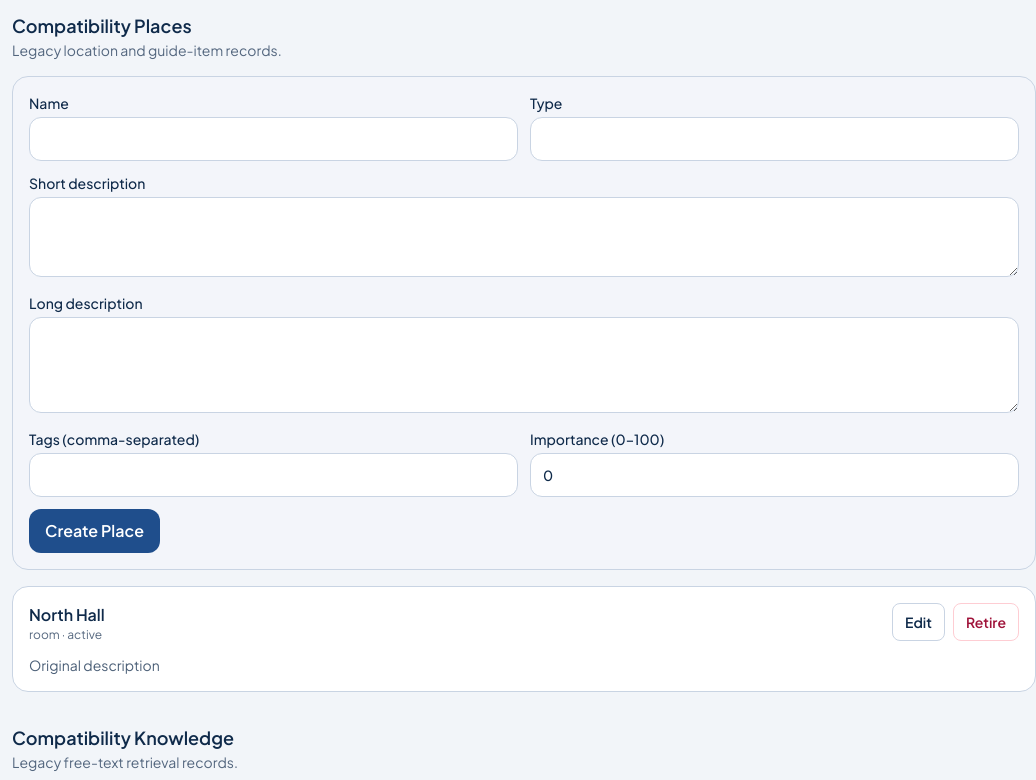
LegacyContentManager › sends exact tenant, venue and CAS scope while retaining edits on conflict
The width and height of the screenshot is (1036, 780).
Click the button with aria-label "Edit Place North Hall" at [918, 622], box top-left (892, 603), bottom-right (945, 641)
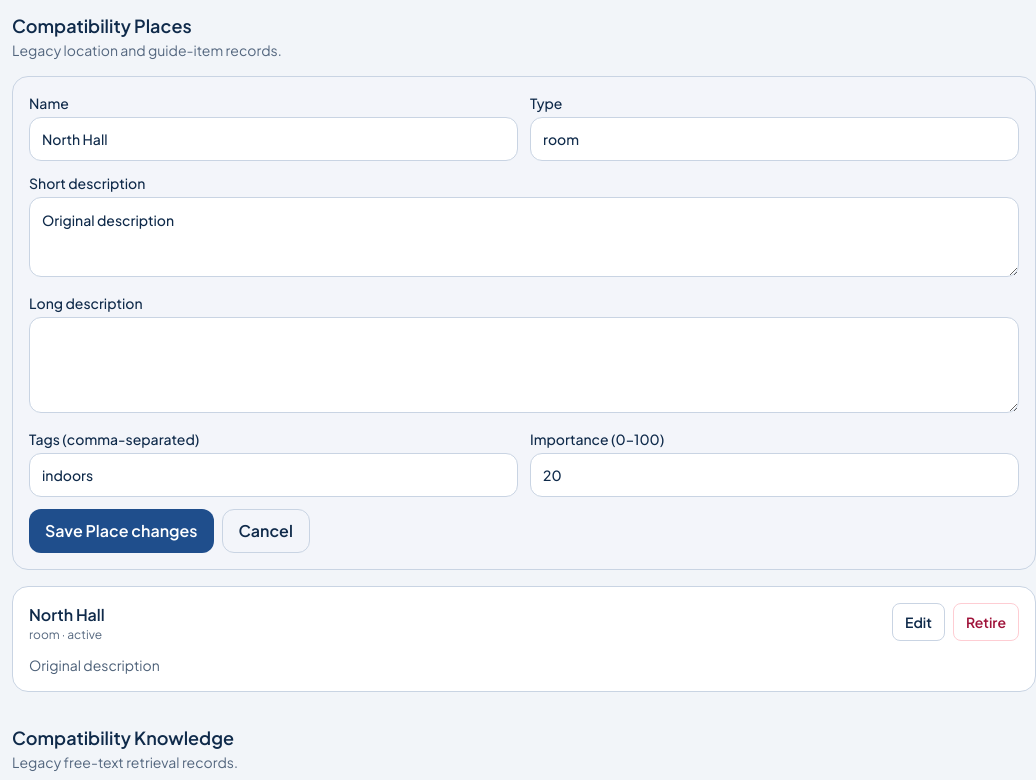
Replace the text in the field labelled "Name" with "North Gallery" at [274, 139], box top-left (29, 117), bottom-right (518, 161)
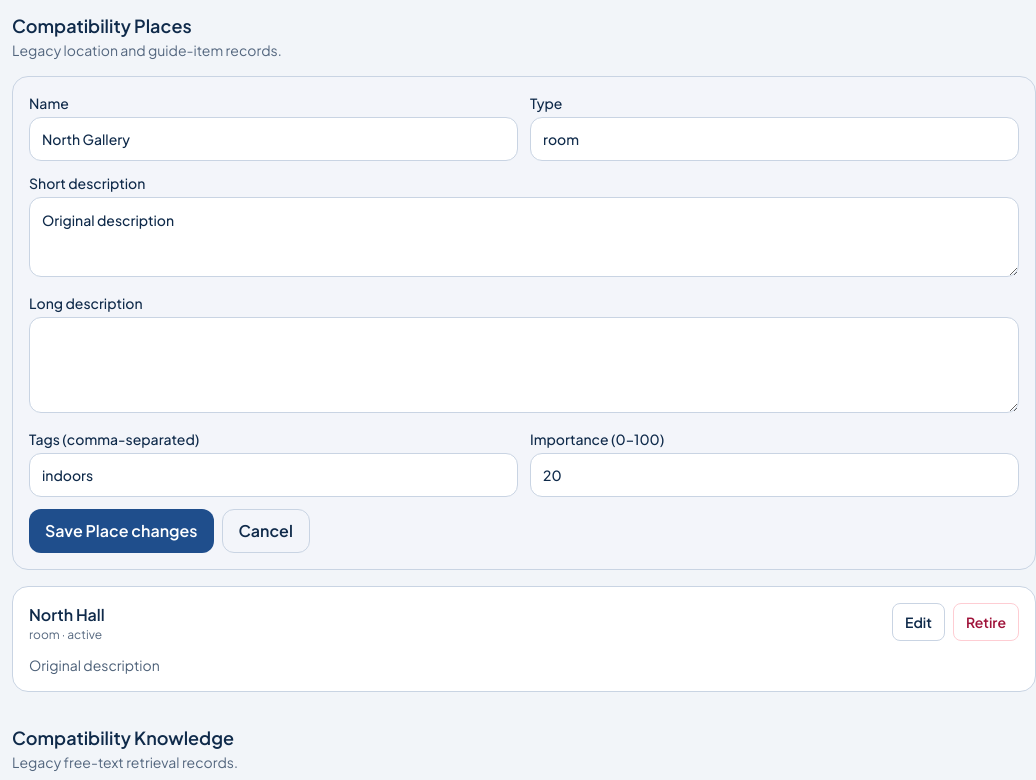
Click the button "Save Place changes" at [121, 531], box top-left (29, 509), bottom-right (214, 553)
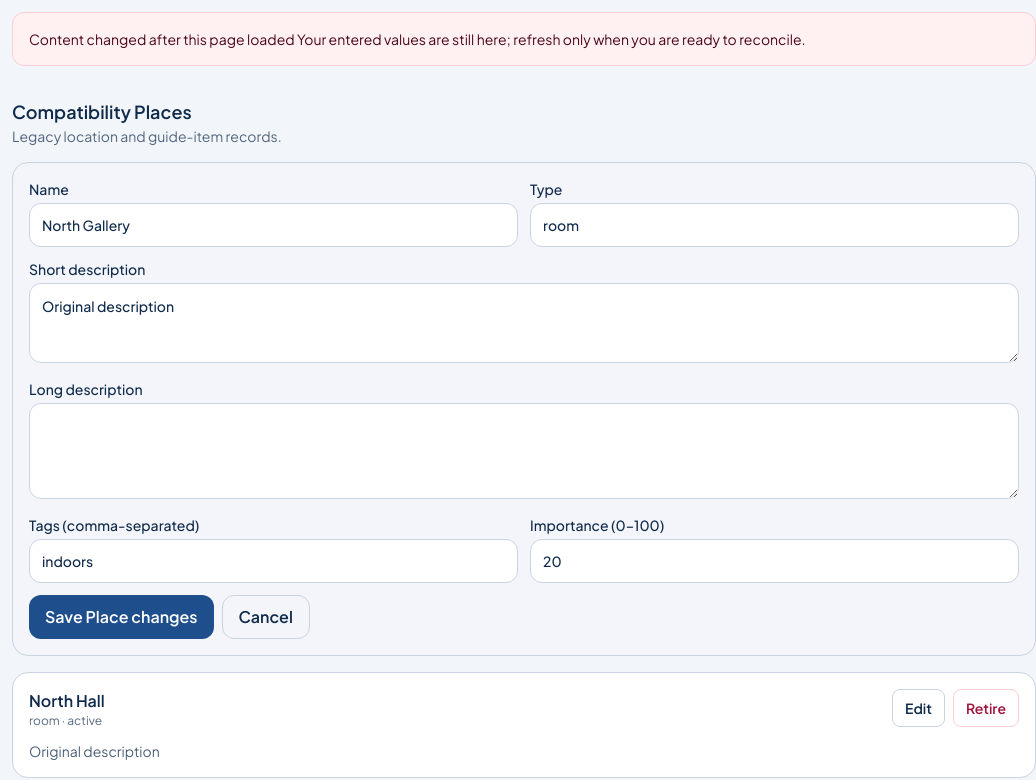
Expected: the message shows "entered values are still here", top-left (295, 30), bottom-right (806, 48)
